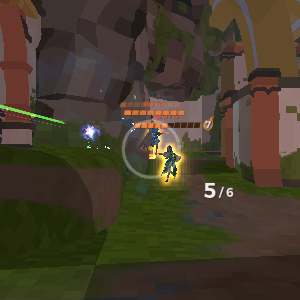model: (152, 140, 183, 188), (145, 121, 161, 155)
